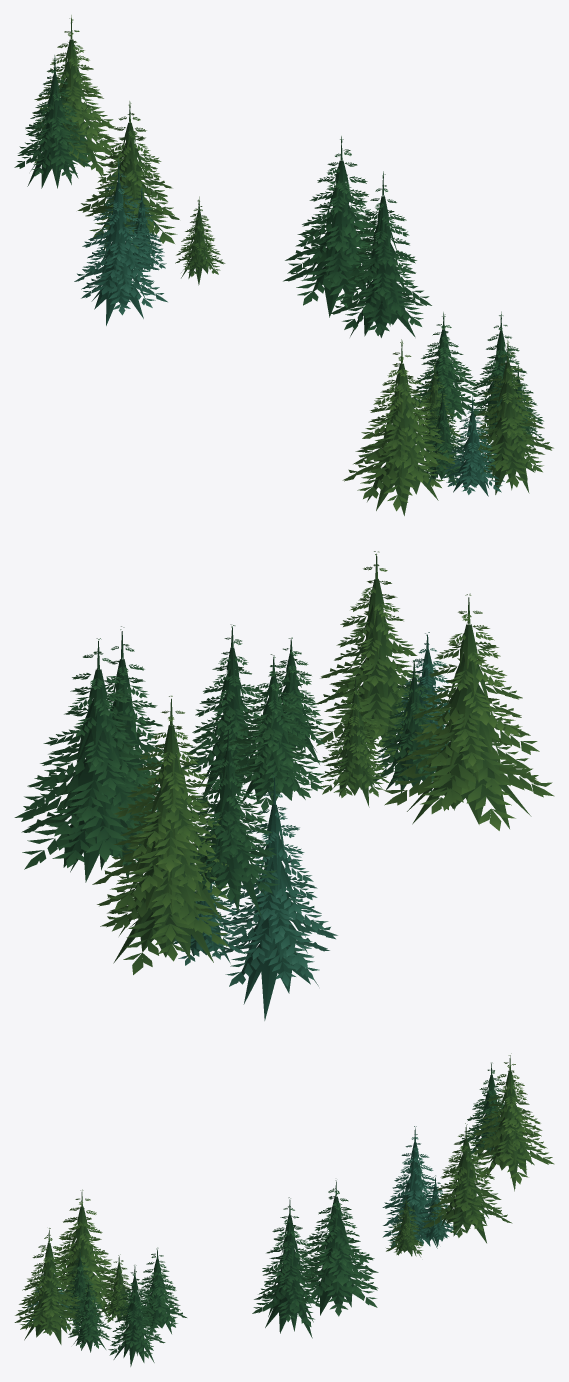
The picture shows the model from 3 angles, top to bottom: view 1: azimuth 30°, elevation 25°; view 2: azimuth 150°, elevation 25°; view 3: azimuth 270°, elevation 25°; orthographic projection. The views are drawn at different scales.
Visible parts, largest first — view 1: pn_10; view 2: pn_10; view 3: pn_10.
Boxes of the visible parts, x1,y1,x2,y2 form: pn_10: [14, 15, 553, 515]; pn_10: [14, 551, 554, 1020]; pn_10: [14, 1053, 554, 1366].
Bounding box in the file's own units: 30.98 × 30.9 × 63.25.
1 material, 1 textured.
